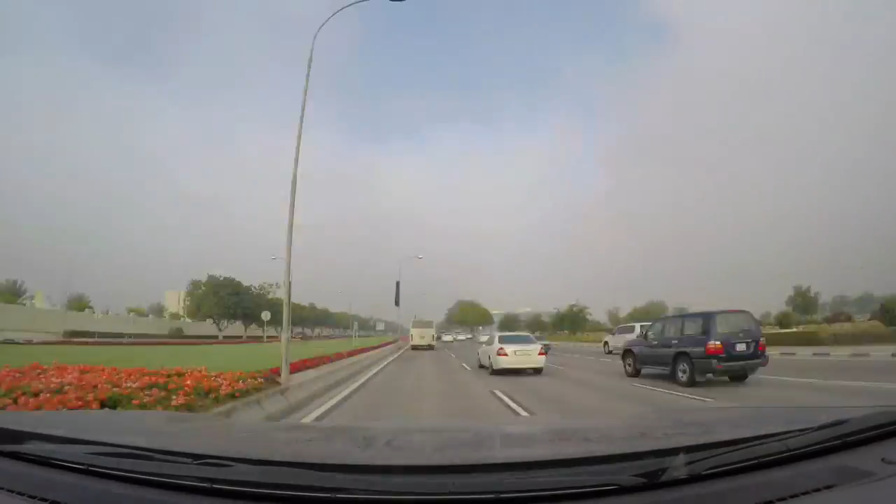bus: (409, 318, 437, 350)
car: (620, 305, 770, 387), (475, 331, 546, 375), (600, 322, 664, 355), (475, 332, 492, 343), (440, 332, 455, 342), (454, 332, 467, 341), (465, 331, 473, 339)
